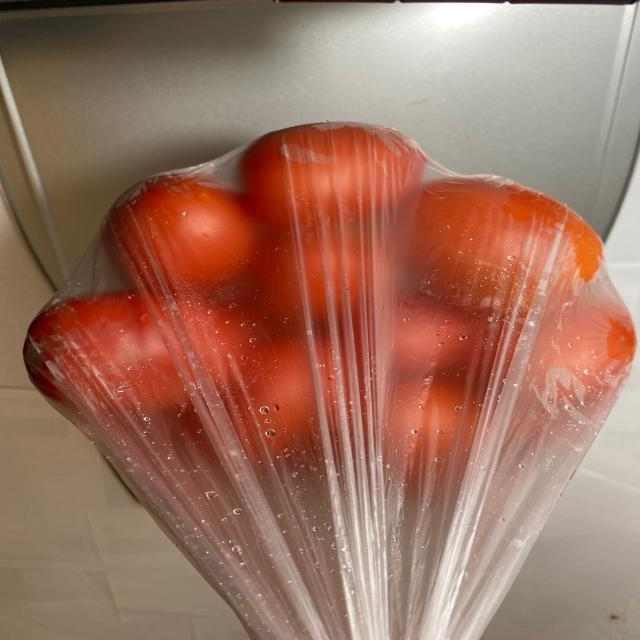tomato: (26, 128, 628, 507)
